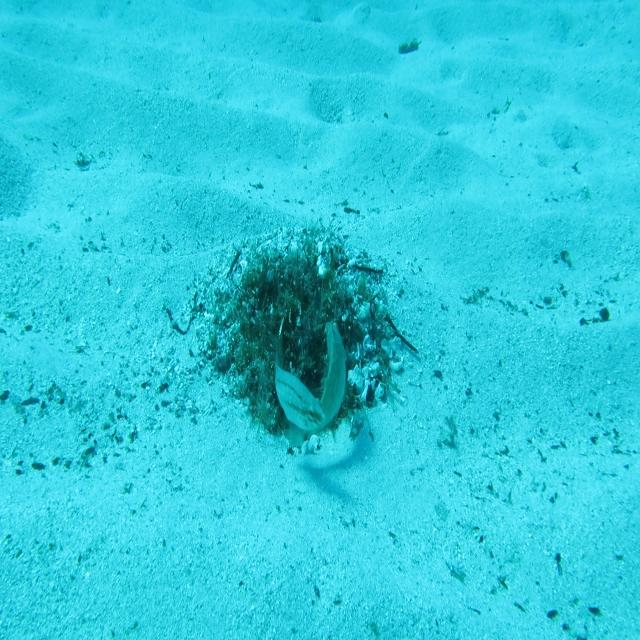BEND: (278, 310, 358, 450)
core_nest: (277, 263, 326, 302)
female: (267, 330, 326, 434)
nest: (187, 210, 411, 460)
vegetation: (397, 38, 421, 58)
